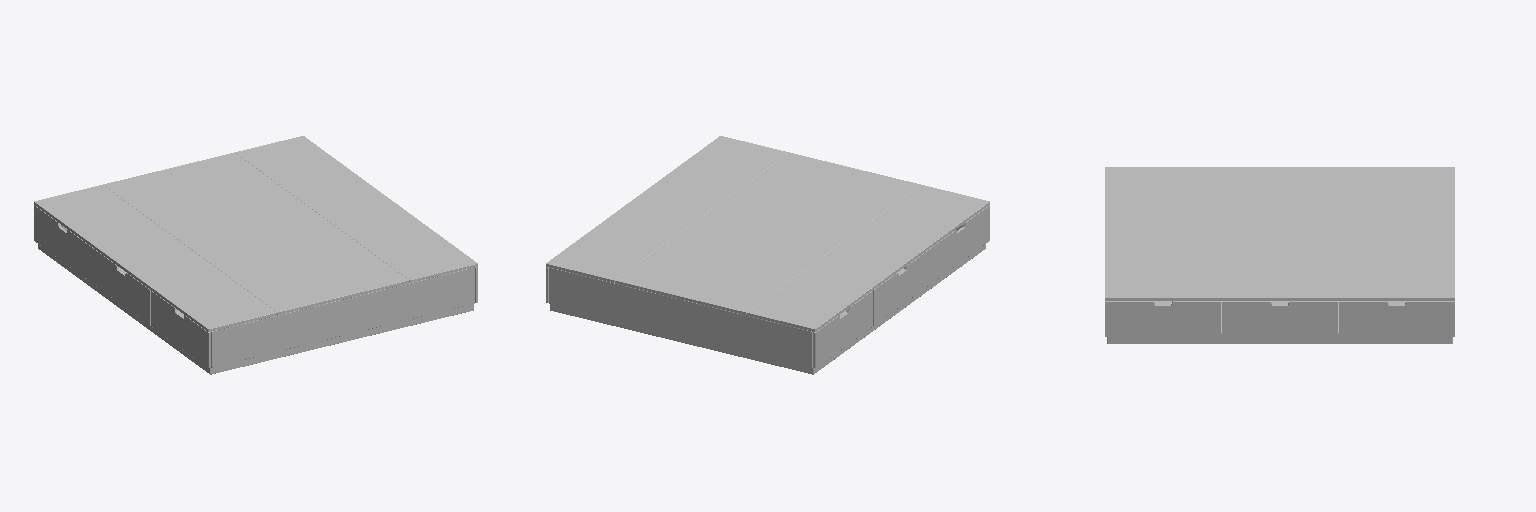
The model's file is BedBase.obj.
3 renders of one model, left to right at view 1: azimuth 30°, elevation 25°; view 2: azimuth 150°, elevation 25°; view 3: azimuth 270°, elevation 25°, orthographic.
Visible parts, largest first — view 1: Nordli_Frame_Low_Cube_002; view 2: Nordli_Frame_Low_Cube_002; view 3: Nordli_Frame_Low_Cube_002.
Part boxes in pixels (x1,y1,x2,y2): Nordli_Frame_Low_Cube_002: (34,136,477,374); Nordli_Frame_Low_Cube_002: (546,136,989,374); Nordli_Frame_Low_Cube_002: (1105,167,1454,343).
Bounding box in the file's own units: 1.8 × 0.3 × 2.02.